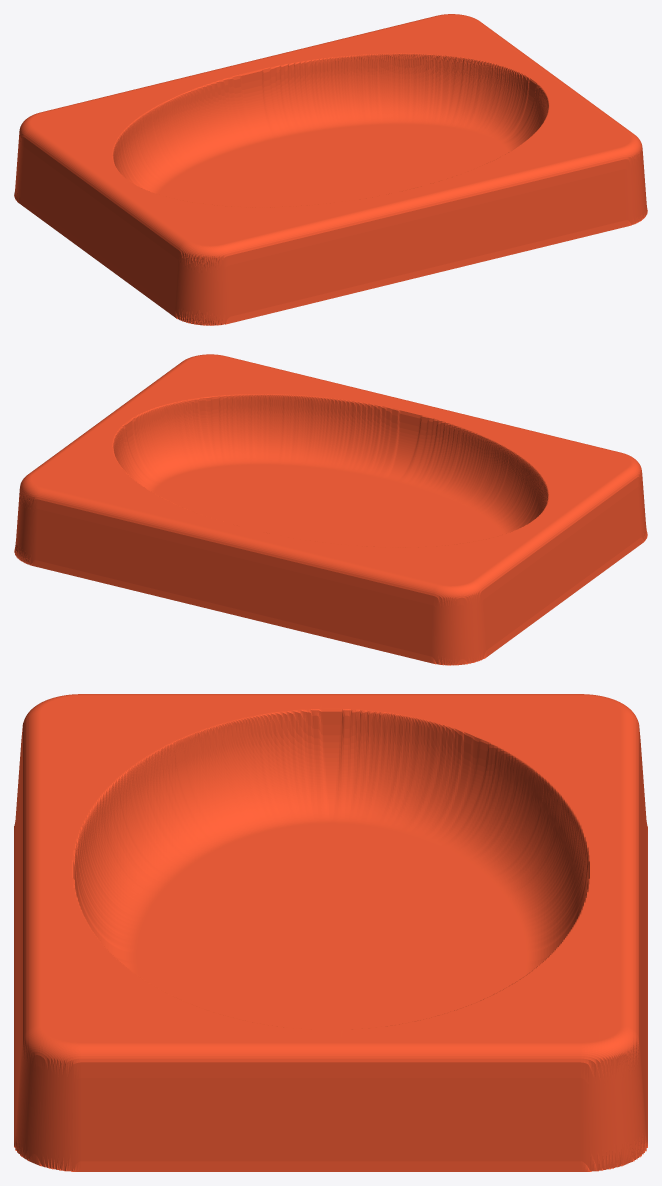
File: mold.glb
The picture shows the model from 3 angles, top to bottom: view 1: azimuth 30°, elevation 25°; view 2: azimuth 150°, elevation 25°; view 3: azimuth 270°, elevation 25°; orthographic projection. The views are drawn at different scales.
Visible parts, largest first — view 1: geometry_0; view 2: geometry_0; view 3: geometry_0.
Part boxes in pixels (<box>): geometry_0: <box>14,14,647,325</box>; geometry_0: <box>14,354,647,665</box>; geometry_0: <box>14,694,647,1171</box>.
Bounding box in the file's own units: 0.1178 × 0.0175 × 0.0854.
